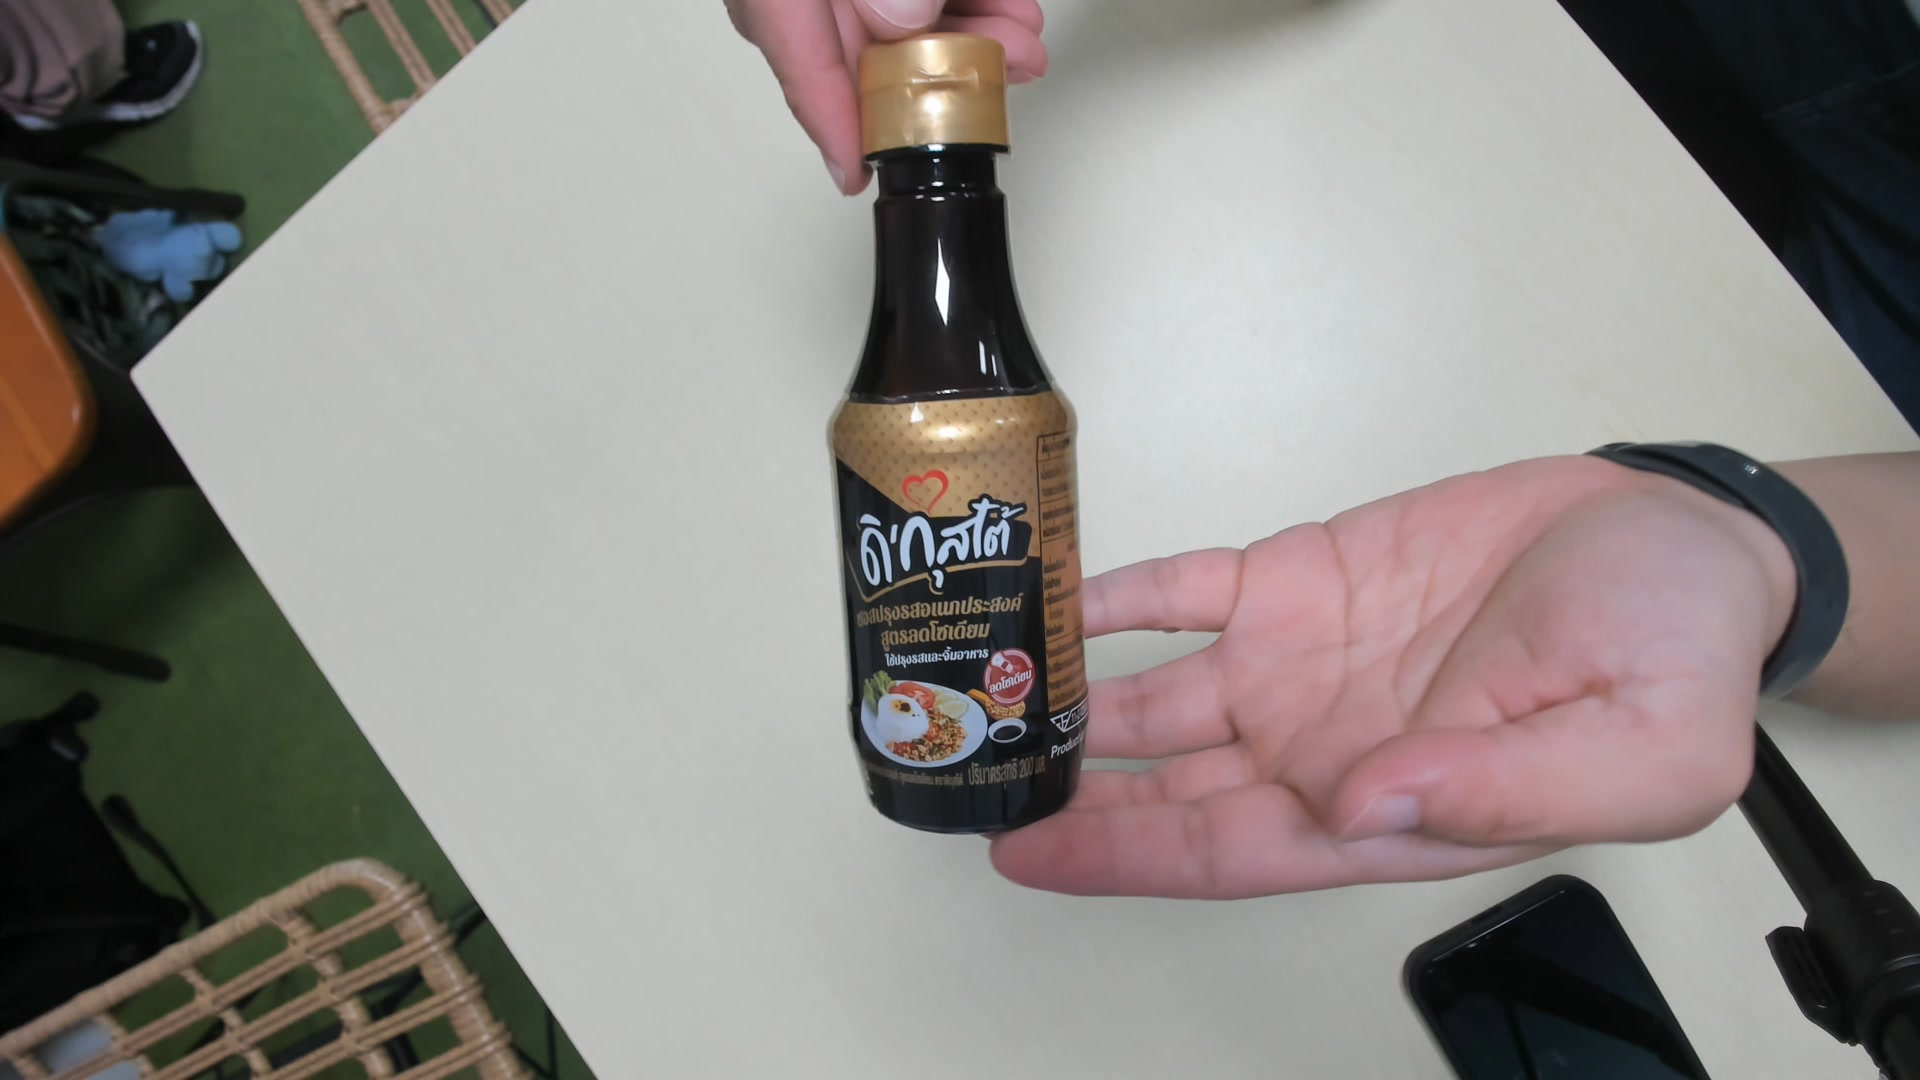OtherSauceDressing_200-299g_NonHalal_NonHealthy: (837, 38, 1091, 828)
